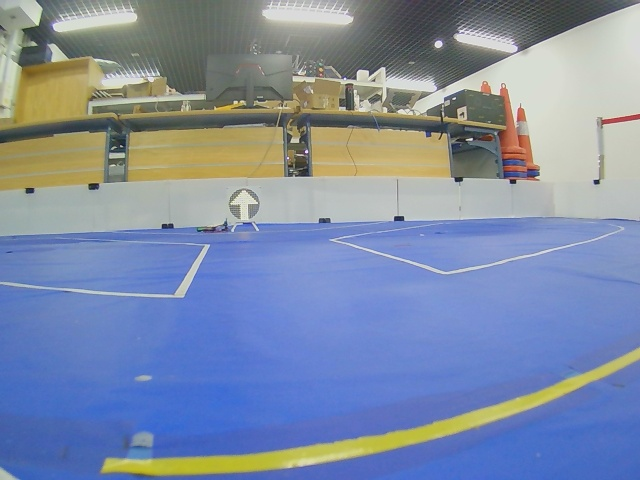straight_yellow: (229, 188, 260, 221)
